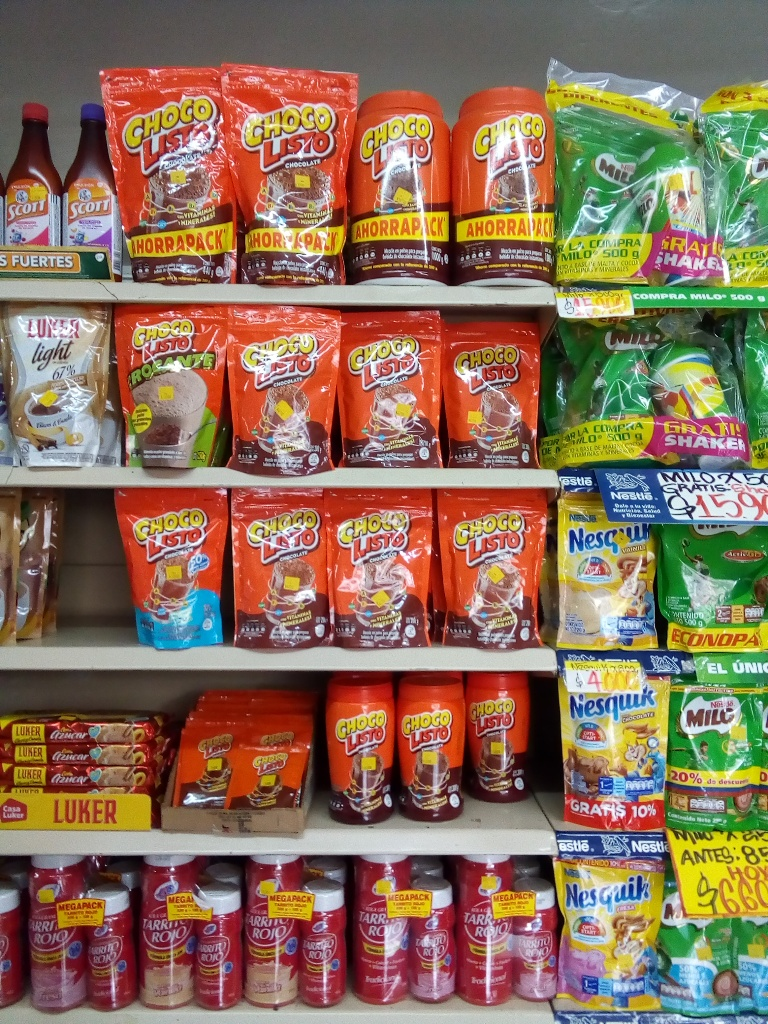COL0170102DYP25000: (116, 302, 226, 471)
COL0170103DYP44000: (95, 68, 236, 284)
COL0170103SOB02000: (243, 747, 299, 807)
COL0170103TRR00100: (350, 87, 456, 283)
COL0170103TRR30000: (331, 676, 399, 829)
COL0170104DYP20000: (115, 489, 229, 653)
COL0170203DYP25000: (673, 678, 762, 828)
COL0170203DYP50000: (559, 95, 680, 283)
COL0170205DYP20000: (665, 883, 738, 1013)
COL0170306DYP20000: (559, 496, 660, 652)
